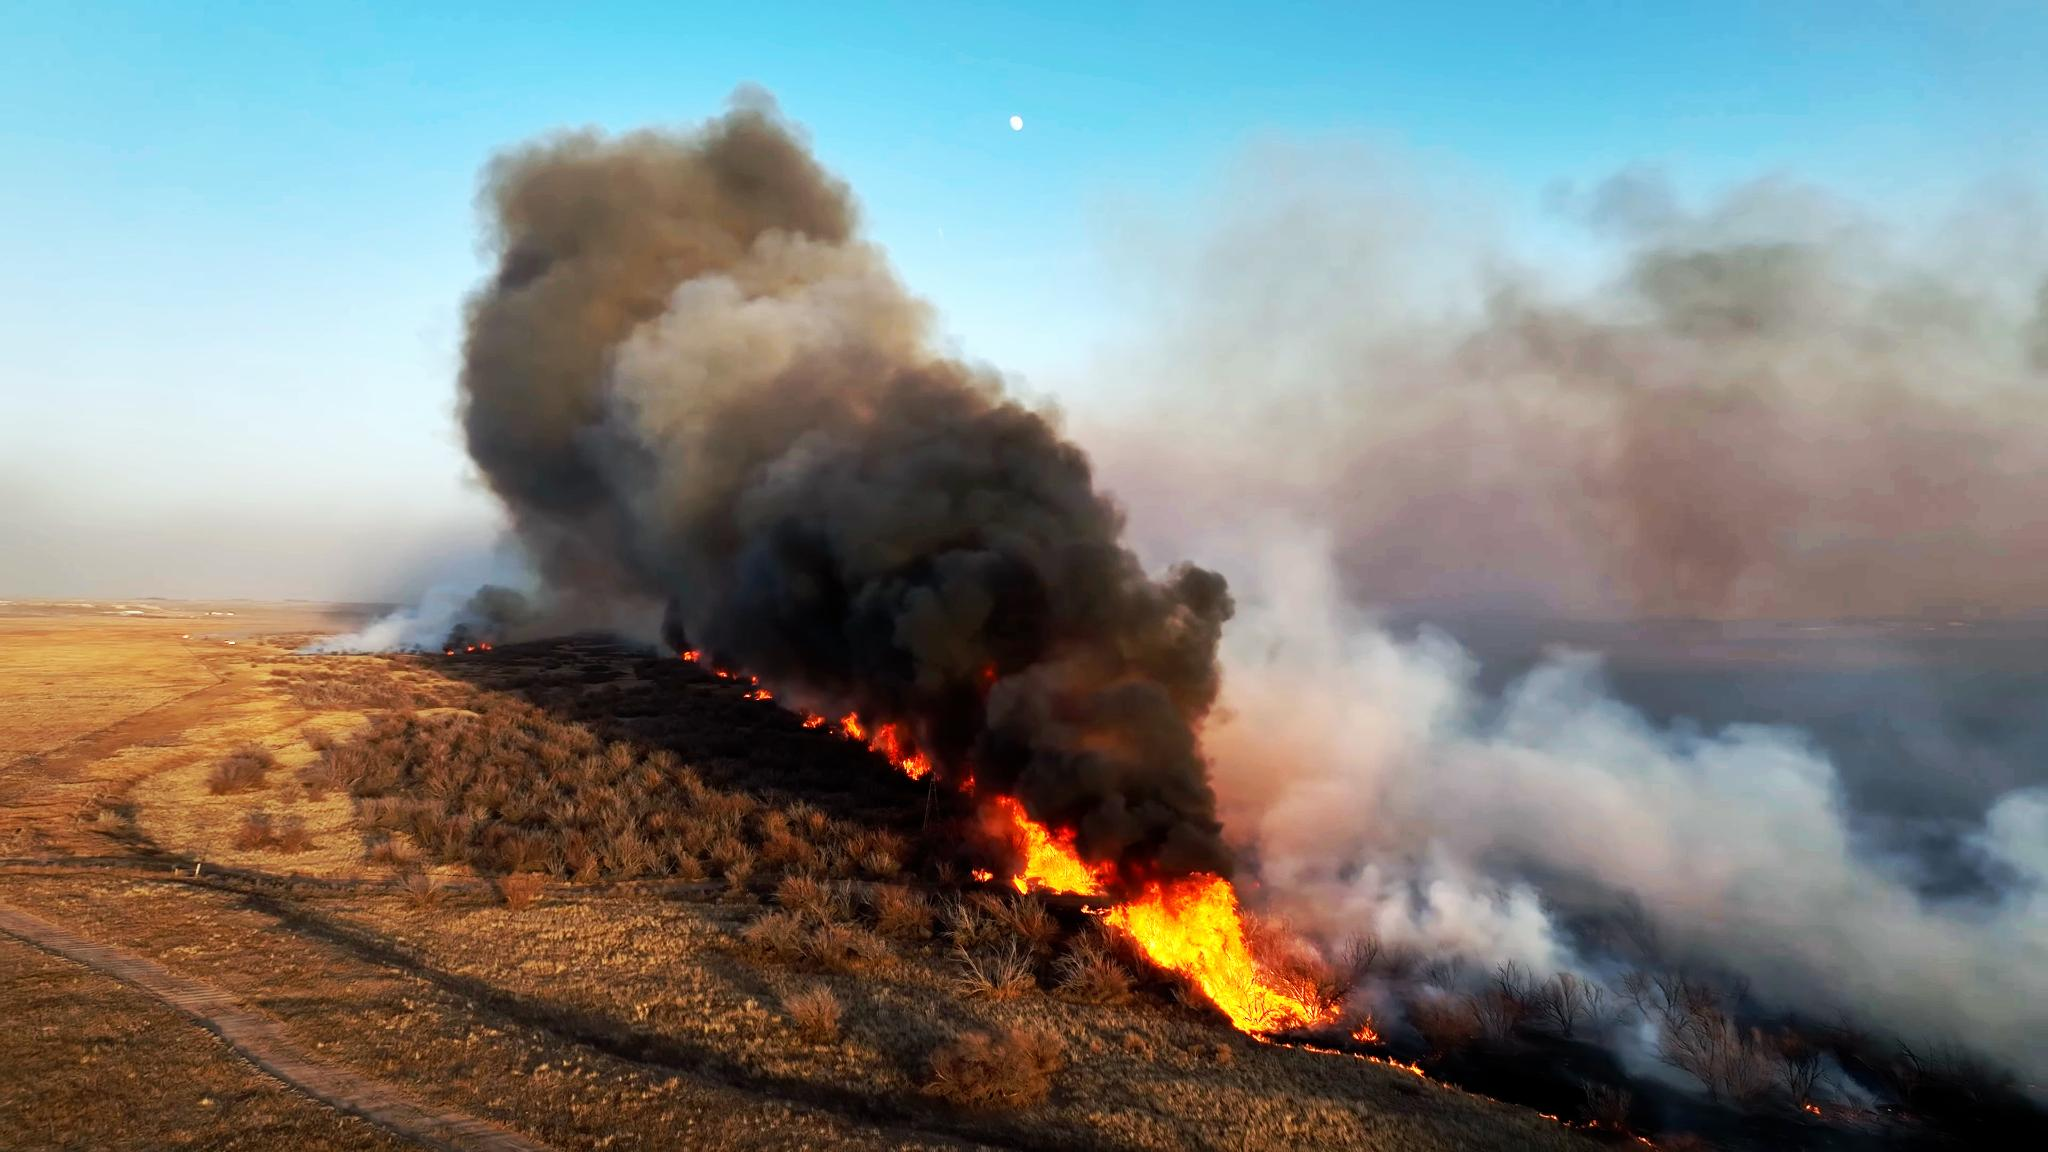fire: (1103, 889, 1300, 1032)
smoke: (1467, 259, 2018, 653), (433, 59, 857, 457), (630, 225, 1021, 564), (761, 415, 1128, 693), (1007, 601, 1291, 812)
